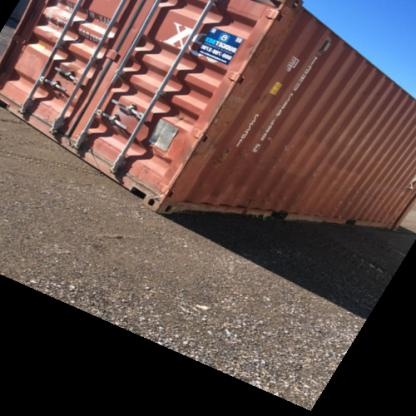Damage: (233, 5, 300, 64), (202, 85, 238, 138), (152, 177, 174, 206), (180, 138, 204, 162), (217, 144, 238, 166)
